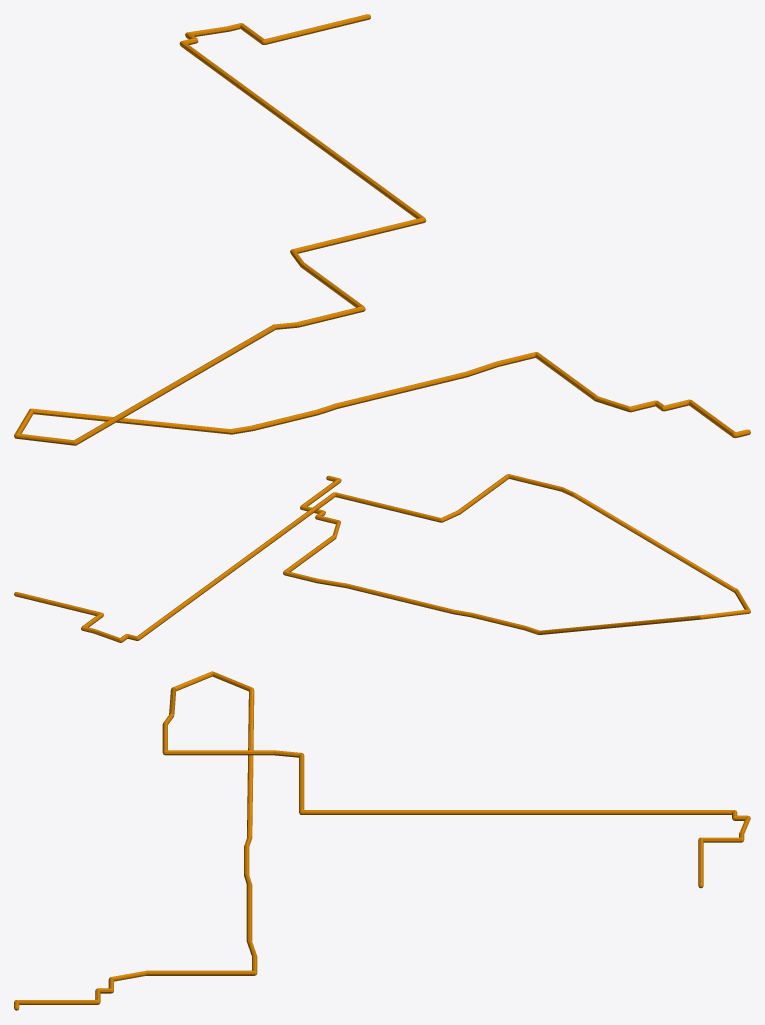
3 views of the same model, one above another, from view 1: azimuth 30°, elevation 25°; view 2: azimuth 150°, elevation 25°; view 3: azimuth 270°, elevation 25° (orthographic). The views are drawn at different scales.
Bounding box in the file's own units: 2409 × 520 × 2723.
